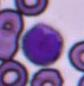L: (22, 22, 63, 66)
